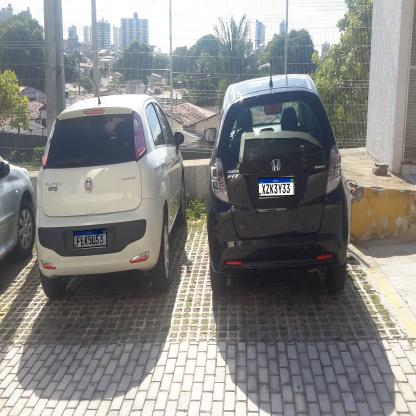PlacaM: (258, 177, 294, 197), (73, 228, 107, 249)
